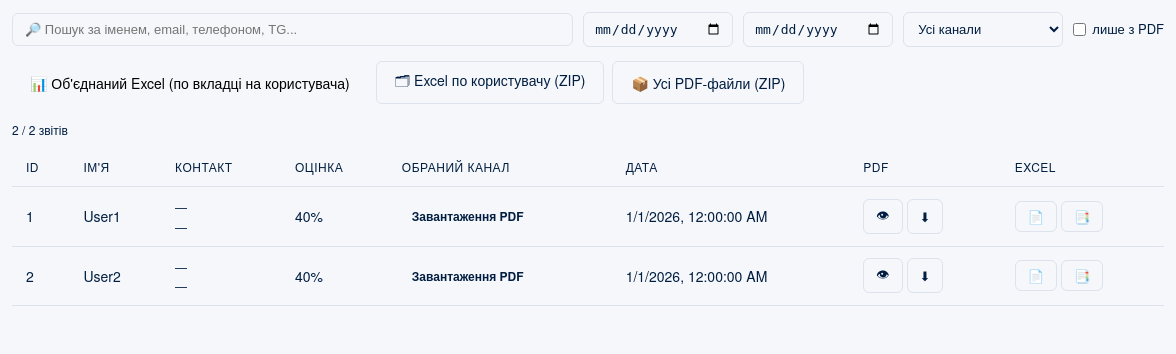
Test: AdminTestReports — async PDF-ZIP export › shows job.error verbatim when the job fails
Step 1. Click the button "📦 Усі PDF-файли (ZIP)" → [708, 82], box [612,61,804,104]
Wait 18000 ms
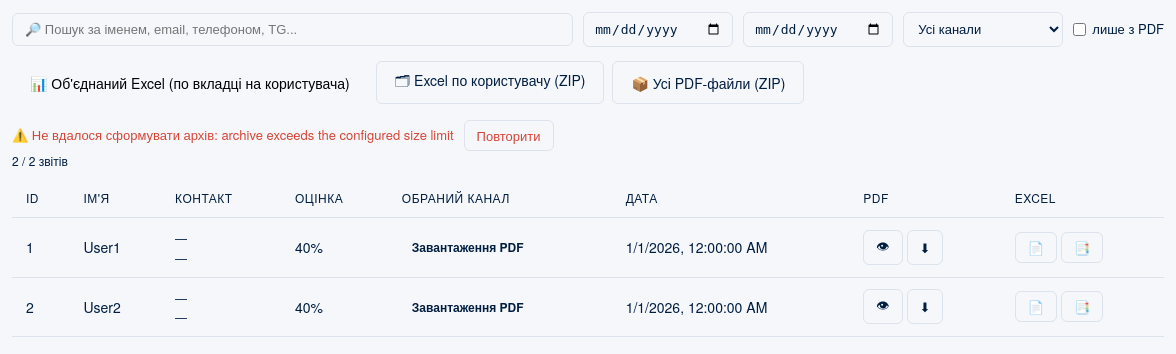
expect the text "Не вдалося сформувати архів: archive exceeds the configured size limit" is shown: met, box [32,125,454,144]
